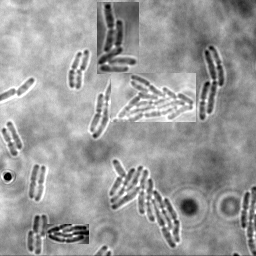Dividing: (67, 52, 81, 89), (1, 128, 18, 157), (34, 166, 47, 202), (28, 164, 39, 200), (239, 192, 249, 229)
Microcolony: (109, 158, 180, 249), (111, 73, 196, 122), (97, 2, 139, 74), (88, 76, 119, 139), (199, 45, 224, 121), (27, 214, 48, 255), (46, 224, 89, 244)
Rod: (5, 121, 23, 150), (16, 78, 34, 99), (79, 50, 89, 72), (73, 69, 82, 90)
